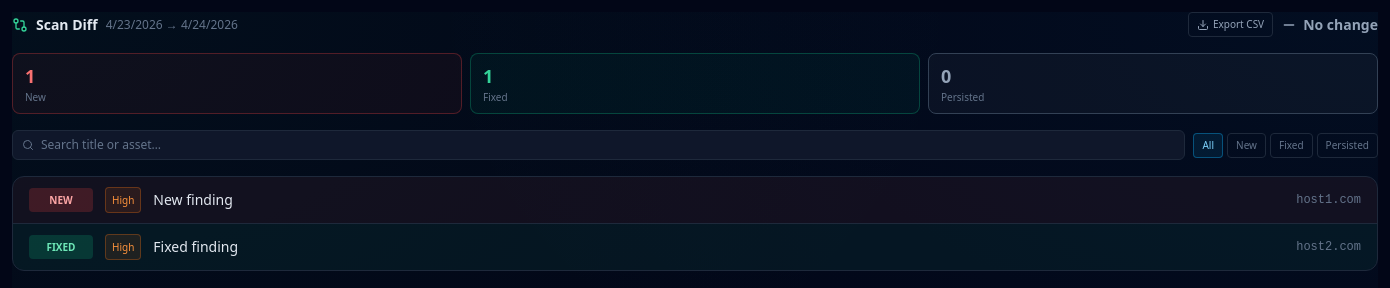
it: ScanDiff › rendering › shows "No entries match" message when filter excludes all
# Click "Persisted" filter - no persisted findings exist
Click the button "Persisted": (1347, 145) 1317,132 -> 1378,158
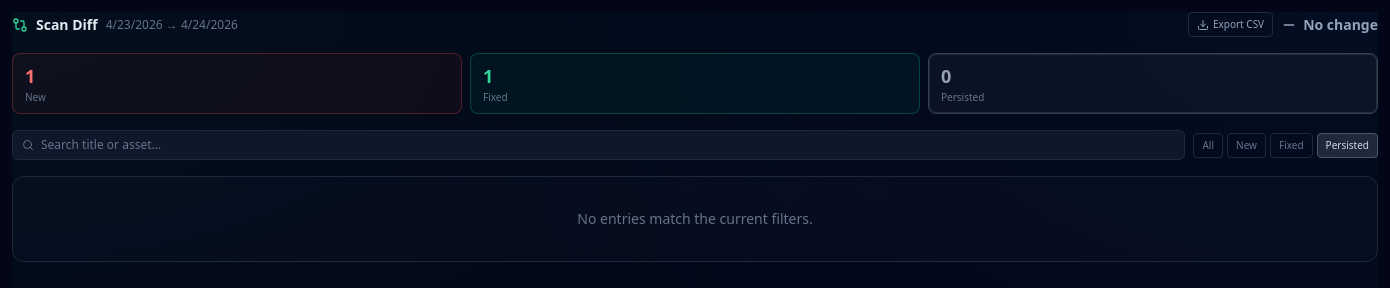
Expected: the text "No entries match the current filters." is shown, 577,209 -> 813,228
